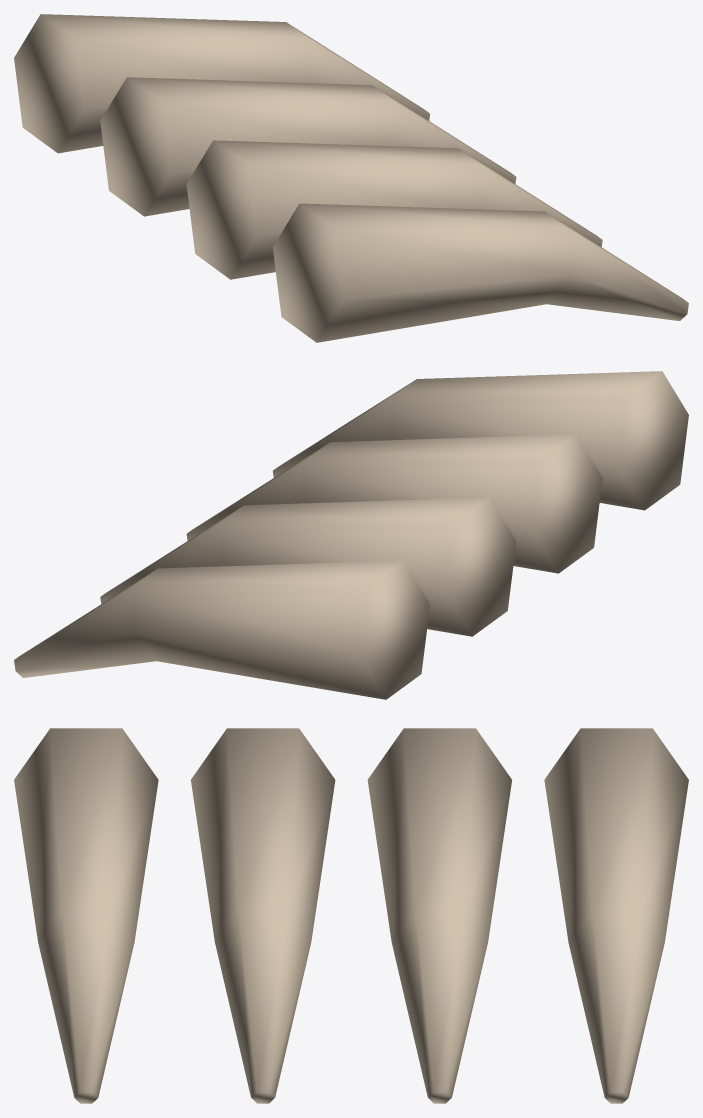
The model's file is claws.glb.
3 renders of one model, top to bottom at view 1: azimuth 30°, elevation 25°; view 2: azimuth 150°, elevation 25°; view 3: azimuth 270°, elevation 25°, orthographic. The views are drawn at different scales.
Visible parts, largest first — view 1: Claw_0, Claw_3, Claw_2, Claw_1; view 2: Claw_3, Claw_0, Claw_1, Claw_2; view 3: Claw_1, Claw_2, Claw_0, Claw_3.
Part boxes in pixels (x1,y1,x2,y2): Claw_0: (272, 203, 688, 342); Claw_3: (14, 14, 429, 153); Claw_2: (100, 77, 516, 216); Claw_1: (186, 140, 602, 279); Claw_3: (14, 560, 430, 699); Claw_0: (273, 371, 688, 510); Claw_1: (186, 434, 602, 573); Claw_2: (100, 497, 516, 636); Claw_1: (191, 728, 335, 1103); Claw_2: (367, 728, 511, 1103); Claw_0: (14, 728, 158, 1103); Claw_3: (544, 728, 688, 1103).
Size of the model in its own units: 0.057 by 0.0268 by 0.084.
